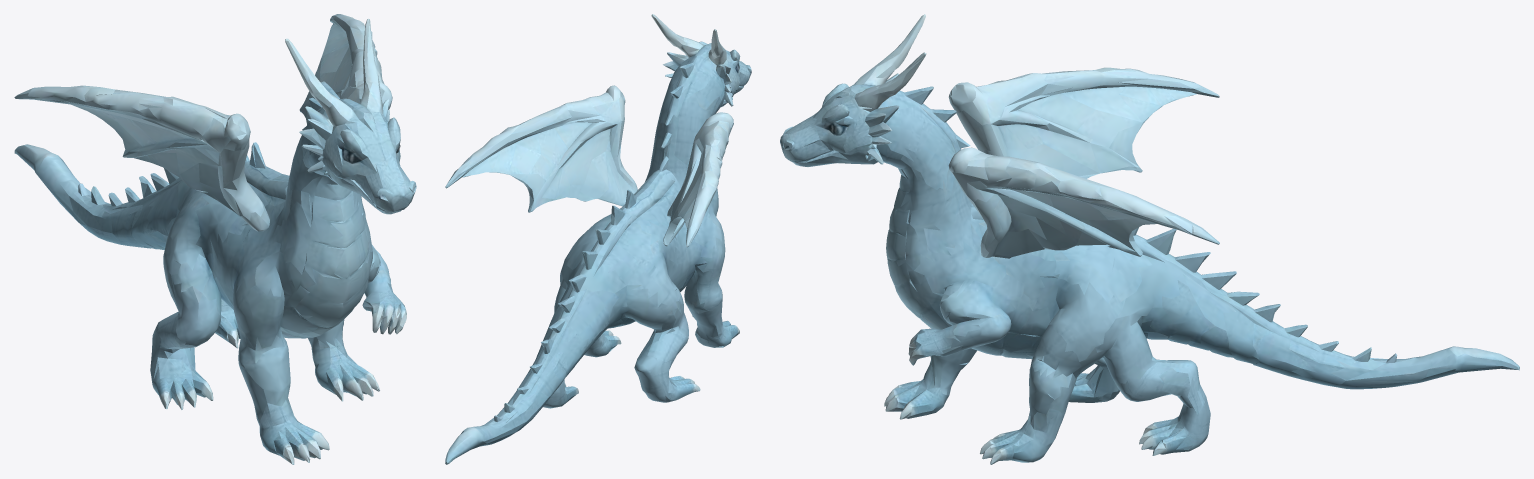
Rendered from dragon.glb.
3 renders of one model, left to right at view 1: azimuth 30°, elevation 25°; view 2: azimuth 150°, elevation 25°; view 3: azimuth 270°, elevation 25°, orthographic. The views are drawn at different scales.
Bounding box in the file's own units: 0.9026 × 1.11 × 1.9.
1 material, 1 textured.
